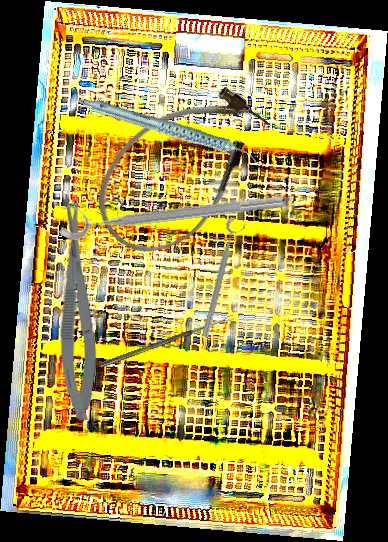Cannula: (73, 62, 289, 276)
Fixation Ring: (55, 176, 287, 242), (198, 216, 248, 340)
Handpiece: (80, 64, 260, 200)
Micro Scissor: (57, 193, 99, 421)
Surgical Spoon: (97, 314, 235, 370)
